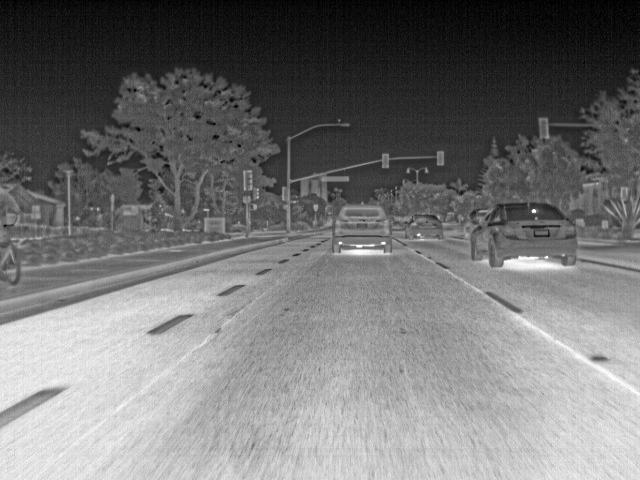car: (472, 203, 578, 267), (332, 204, 392, 253), (403, 214, 445, 239), (462, 207, 492, 236)
person: (1, 181, 22, 243)
